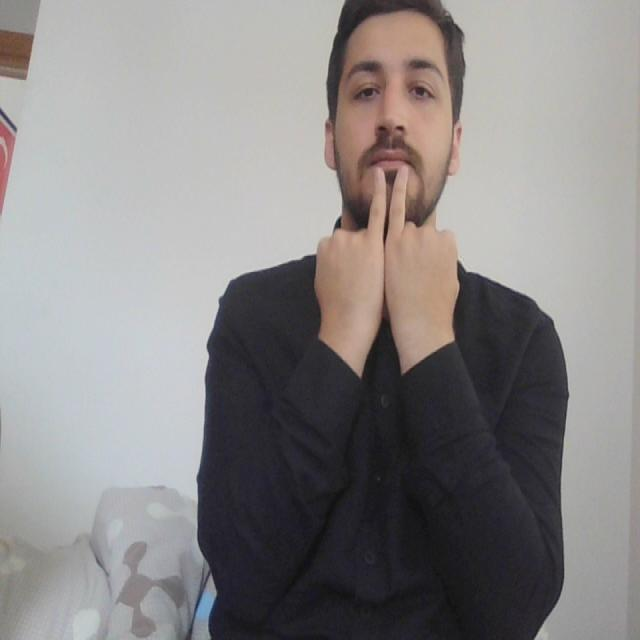Kardes: (309, 160, 461, 380)
